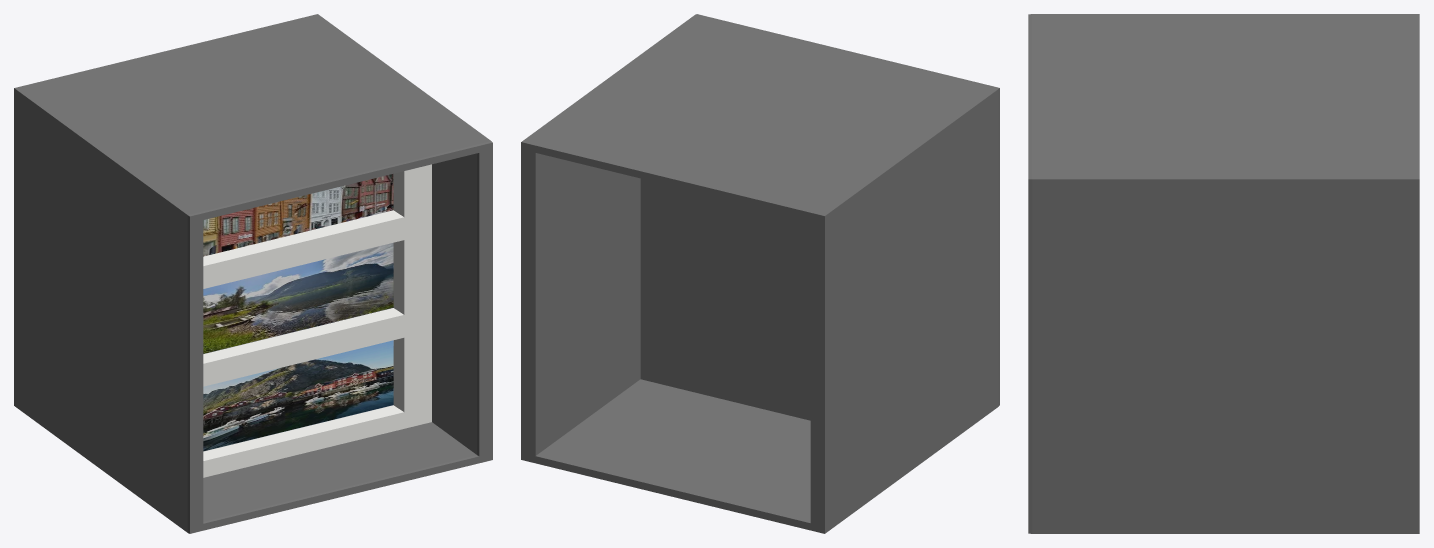
Rendered from sh-contrib-frame3-horizontal-norway-photos.glb.
3 views of the same model, side by side, from view 1: azimuth 30°, elevation 25°; view 2: azimuth 150°, elevation 25°; view 3: azimuth 270°, elevation 25° (orthographic). The views are drawn at different scales.
Parts seen in each view (by area): view 1: Frame_Cube.001, Inner_frame_Cube.003, Photo2_Plane, Photo3_Plane.002, Photo1_Plane.001; view 2: Frame_Cube.001; view 3: Frame_Cube.001.
Boxes of the visible parts, bbox=[...] form: Frame_Cube.001: bbox=[14, 14, 492, 533]; Inner_frame_Cube.003: bbox=[203, 164, 431, 477]; Photo2_Plane: bbox=[203, 242, 393, 353]; Photo3_Plane.002: bbox=[203, 340, 393, 451]; Photo1_Plane.001: bbox=[203, 173, 393, 256]; Frame_Cube.001: bbox=[521, 14, 999, 533]; Frame_Cube.001: bbox=[1028, 14, 1419, 533].
Bounding box in the file's own units: 1 × 1 × 1.
Materials: 5 (3 with a texture image).
